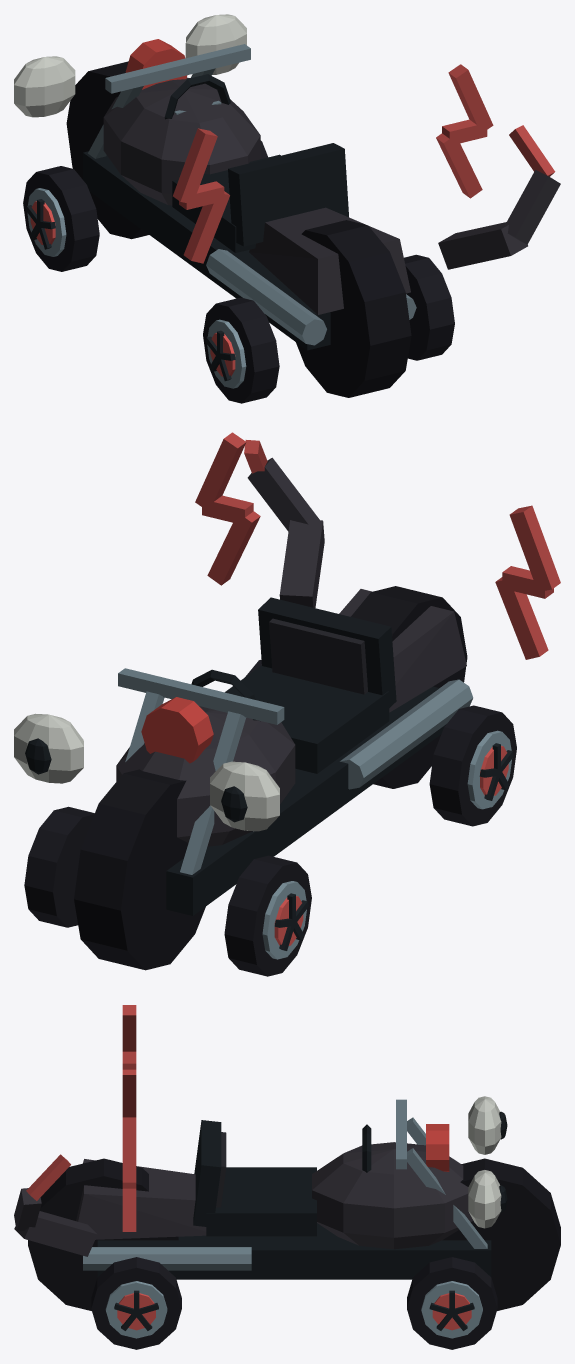
Rendered from kart.glb.
3 views of the same model, one above another, from view 1: azimuth 30°, elevation 25°; view 2: azimuth 150°, elevation 25°; view 3: azimuth 270°, elevation 25° (orthographic). The views are drawn at different scales.
Visible parts, largest first — view 1: identity-motorbike-motorbike-tank-and-fork, identity-motorbike-driver-cockpit, identity-motorbike-motif-electric, wheel-rear-left, wheel-front-left, identity-motorbike-motif-tail, identity-motorbike-motif-eyes, wheel-rear-right; view 2: identity-motorbike-motorbike-tank-and-fork, identity-motorbike-driver-cockpit, identity-motorbike-motif-electric, wheel-rear-left, wheel-front-left, identity-motorbike-motif-eyes, identity-motorbike-motif-tail, wheel-front-right; view 3: identity-motorbike-motorbike-tank-and-fork, identity-motorbike-driver-cockpit, wheel-rear-right, wheel-front-right, identity-motorbike-motif-tail, identity-motorbike-motif-eyes, identity-motorbike-motif-electric.
Part boxes in pixels (left/top/right/bottom): identity-motorbike-motorbike-tank-and-fork: left=66, top=39, right=416, bottom=397; identity-motorbike-driver-cockpit: left=164, top=74, right=348, bottom=252; identity-motorbike-motif-electric: left=173, top=64, right=493, bottom=263; wheel-rear-left: left=203, top=297, right=279, bottom=403; wheel-front-left: left=23, top=166, right=99, bottom=271; identity-motorbike-motif-tail: left=438, top=125, right=560, bottom=269; identity-motorbike-motif-eyes: left=14, top=14, right=246, bottom=117; wheel-rear-right: left=404, top=254, right=454, bottom=360; identity-motorbike-motorbike-tank-and-fork: left=74, top=586, right=473, bottom=970; identity-motorbike-driver-cockpit: left=191, top=597, right=396, bottom=773; identity-motorbike-motif-electric: left=195, top=432, right=560, bottom=659; wheel-rear-left: left=429, top=705, right=516, bottom=826; wheel-front-left: left=224, top=855, right=311, bottom=976; identity-motorbike-motif-eyes: left=14, top=713, right=279, bottom=831; identity-motorbike-motif-tail: left=244, top=440, right=324, bottom=607; wheel-front-right: left=24, top=806, right=94, bottom=927; identity-motorbike-motorbike-tank-and-fork: left=28, top=1099, right=560, bottom=1310; identity-motorbike-driver-cockpit: left=193, top=1120, right=371, bottom=1236; wheel-rear-right: left=91, top=1257, right=181, bottom=1349; wheel-front-right: left=407, top=1257, right=497, bottom=1349; identity-motorbike-motif-tail: left=14, top=1154, right=97, bottom=1256; identity-motorbike-motif-eyes: left=468, top=1096, right=507, bottom=1228; identity-motorbike-motif-electric: left=122, top=1005, right=136, bottom=1231.
Bounding box in the file's own units: 1.81 × 1.49 × 3.02.
